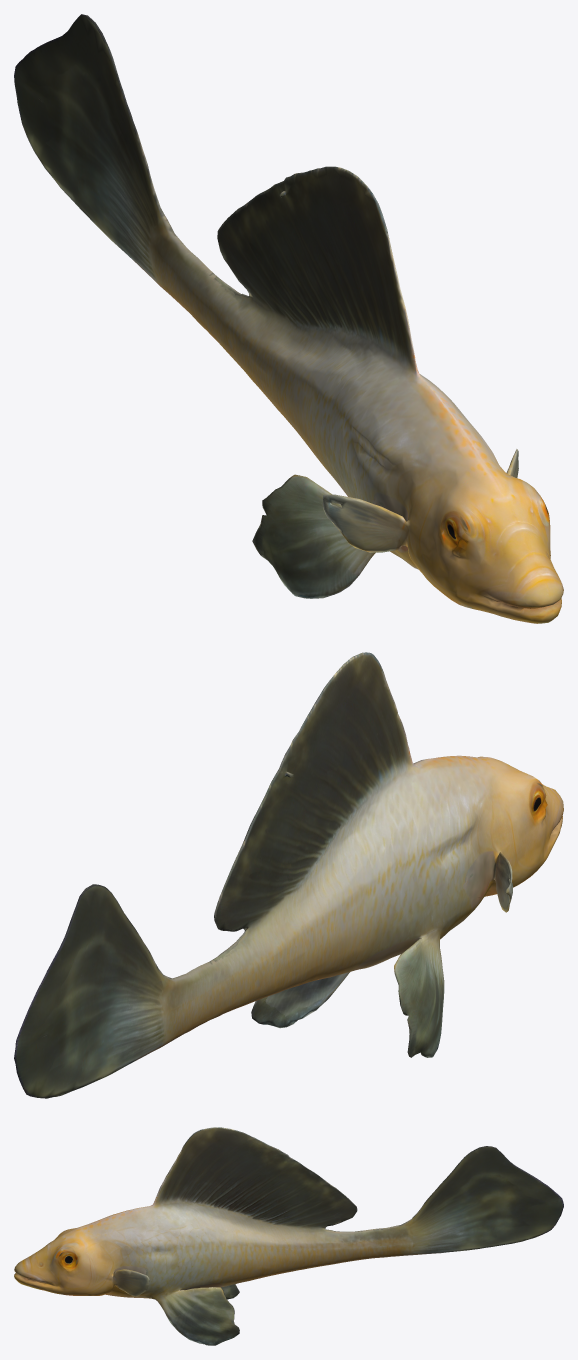
File: gibicep_0604071800_texture.glb
3 renders of one model, top to bottom at view 1: azimuth 30°, elevation 25°; view 2: azimuth 150°, elevation 25°; view 3: azimuth 270°, elevation 25°, orthographic. The views are drawn at different scales.
Size of the model in its own units: 0.4138 by 0.8036 by 1.99.
Materials: 1 (1 with a texture image).
